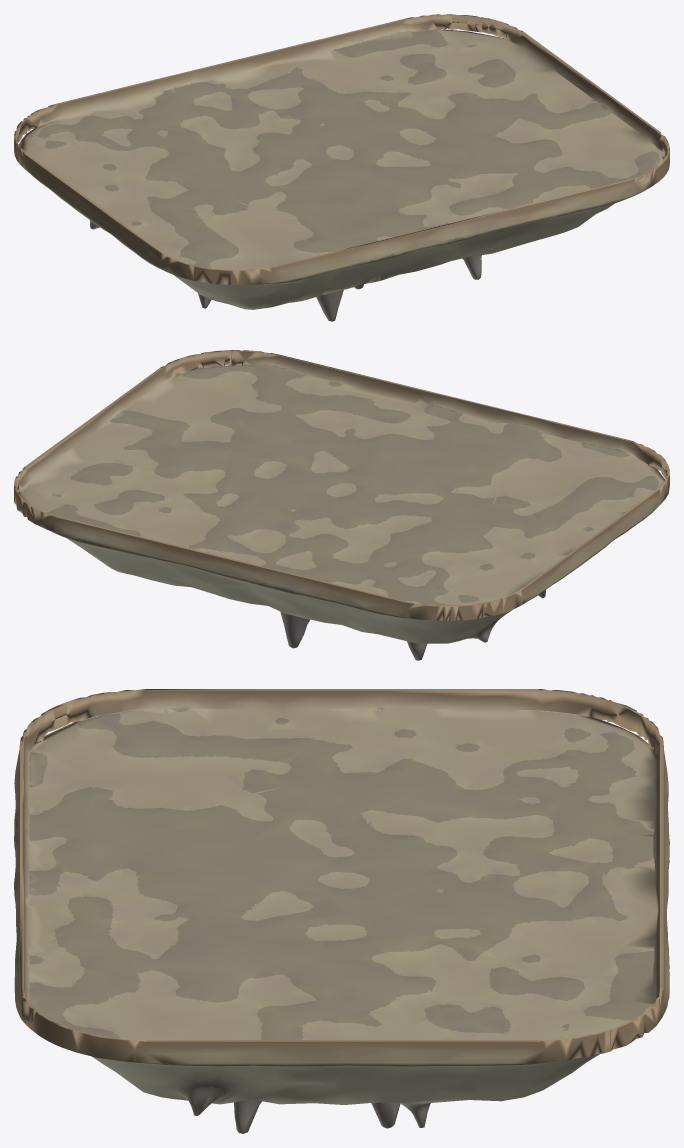
The model's file is island-underside.glb.
3 renders of one model, top to bottom at view 1: azimuth 30°, elevation 25°; view 2: azimuth 150°, elevation 25°; view 3: azimuth 270°, elevation 25°, orthographic. The views are drawn at different scales.
Visible parts, largest first — view 1: body; view 2: body; view 3: body.
Boxes of the visible parts, x1,y1,x2,y2 form: body: (14,14,669,321); body: (14,350,669,660); body: (14,689,669,1133).
Size of the model in its own units: 221 by 69.42 by 172.
